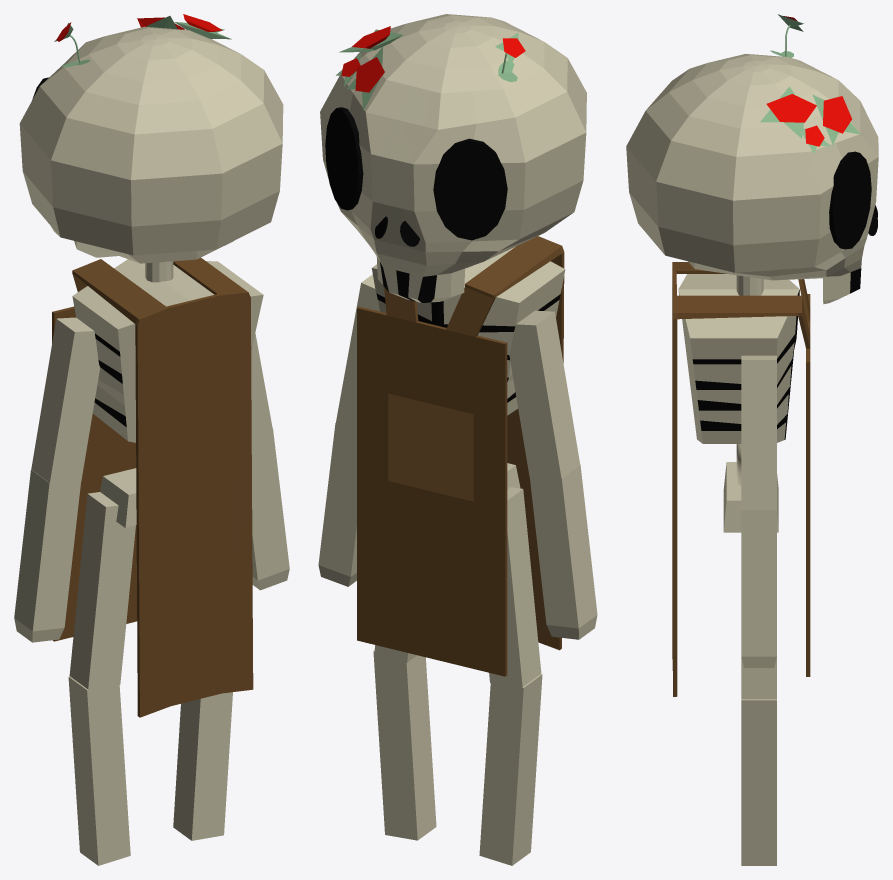
Rendered from Садовник Скелет.fbx.
The picture shows the model from 3 angles, left to right: view 1: azimuth 30°, elevation 25°; view 2: azimuth 150°, elevation 25°; view 3: azimuth 270°, elevation 25°; orthographic projection. The views are drawn at different scales.
Parts seen in each view (by area): view 1: Plane.004, Plane.032, Cube.019, Cube.015, Cube.014, Cube.018, Cube.078, Cube.016; view 2: Plane.004, Plane.032, Cube.019, Cube.015, Cube.014, Cube.018, Cube.078, Cylinder.002; view 3: Plane.032, Cube.078, Plane.004, Cube.019, Cube.015, Cube.014, Cube.016, Cube.018, Cylinder.012, Cylinder.002.
Boxes of the visible parts, x1,y1,x2,y2 form: Plane.004: (52,257,253,717); Plane.032: (19,26,283,263); Cube.019: (68,676,232,865); Cube.015: (14,428,289,642); Cube.014: (31,317,272,482); Cube.018: (69,492,135,689); Cube.078: (72,259,263,442); Cube.016: (100,468,136,528); Plane.004: (357,236,564,676); Plane.032: (320,14,586,302); Cube.019: (373,650,542,865); Cube.015: (318,423,597,639); Cube.014: (336,274,580,478); Cube.018: (374,487,541,687); Cube.078: (371,247,565,415); Cylinder.002: (355,57,384,92); Plane.032: (626,54,878,304); Cube.078: (678,274,799,443); Plane.004: (672,262,810,696); Cube.019: (741,699,776,865); Cube.015: (741,510,776,667); Cube.014: (741,355,776,510); Cube.016: (723,444,778,532); Cube.018: (741,657,776,699); Cylinder.012: (766,94,816,122); Cylinder.002: (823,96,851,133).
Bounding box in the file's own units: 89.56 × 275 × 79.51.
